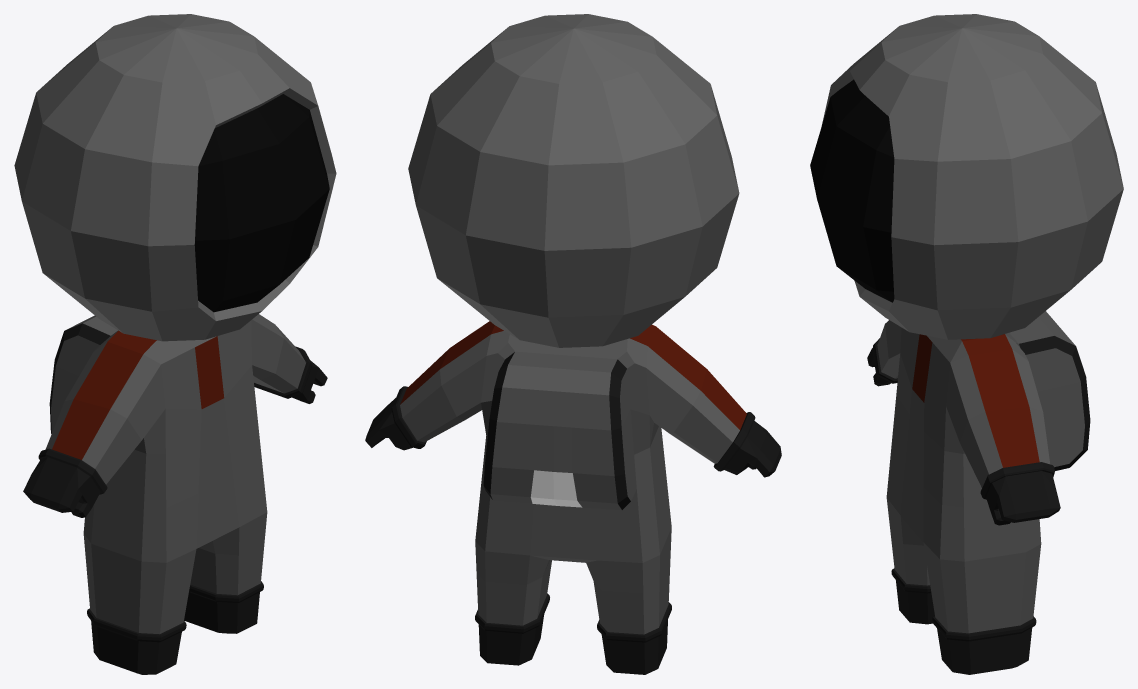
The model's file is W_O_Playground_SpaceSymbolic_spaceman_001_L0.fbx.
The picture shows the model from 3 angles, left to right: view 1: azimuth 30°, elevation 25°; view 2: azimuth 150°, elevation 25°; view 3: azimuth 270°, elevation 25°; orthographic projection. The views are drawn at different scales.
Parts seen in each view (by area): view 1: W_O_Playground_SpaceSymbolic_spaceman_001_L0; view 2: W_O_Playground_SpaceSymbolic_spaceman_001_L0; view 3: W_O_Playground_SpaceSymbolic_spaceman_001_L0.
Part boxes in pixels (left/top/right/bottom): W_O_Playground_SpaceSymbolic_spaceman_001_L0: left=14, top=14, right=336, bottom=674; W_O_Playground_SpaceSymbolic_spaceman_001_L0: left=365, top=14, right=781, bottom=674; W_O_Playground_SpaceSymbolic_spaceman_001_L0: left=810, top=14, right=1123, bottom=674.
Size of the model in its own units: 0.3322 by 0.5667 by 0.2631.
